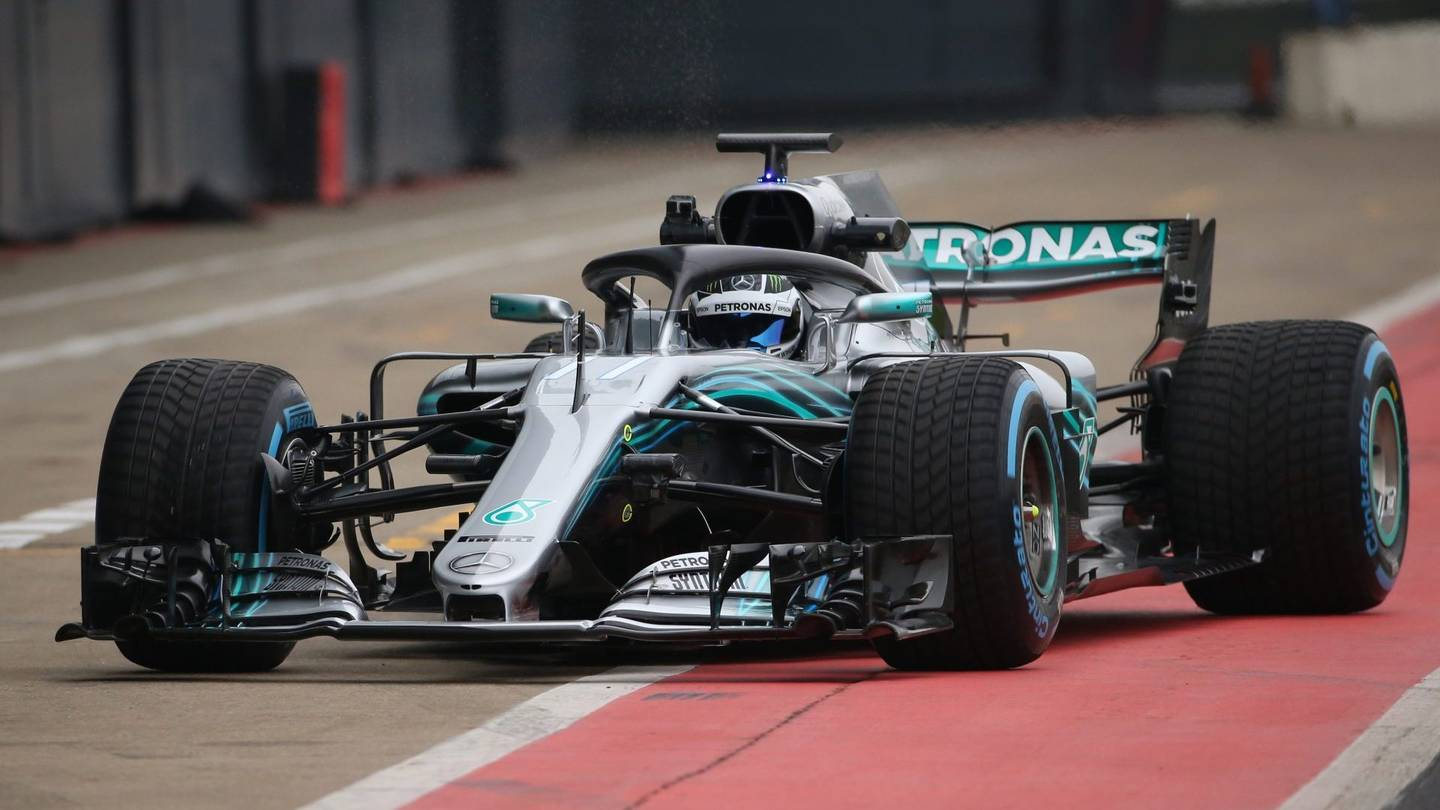f1_car: (36, 109, 1435, 719)
helmet: (673, 245, 825, 378)
